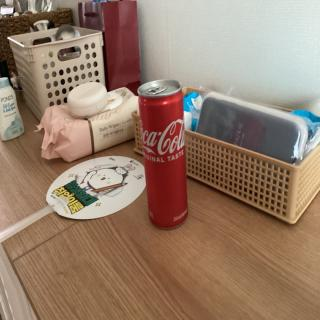cocacola: (136, 74, 200, 232)
